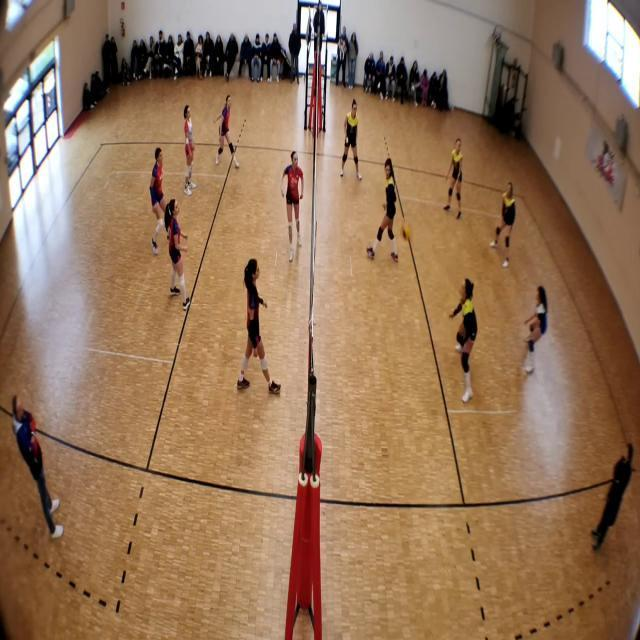volleyball: (400, 220, 412, 240)
